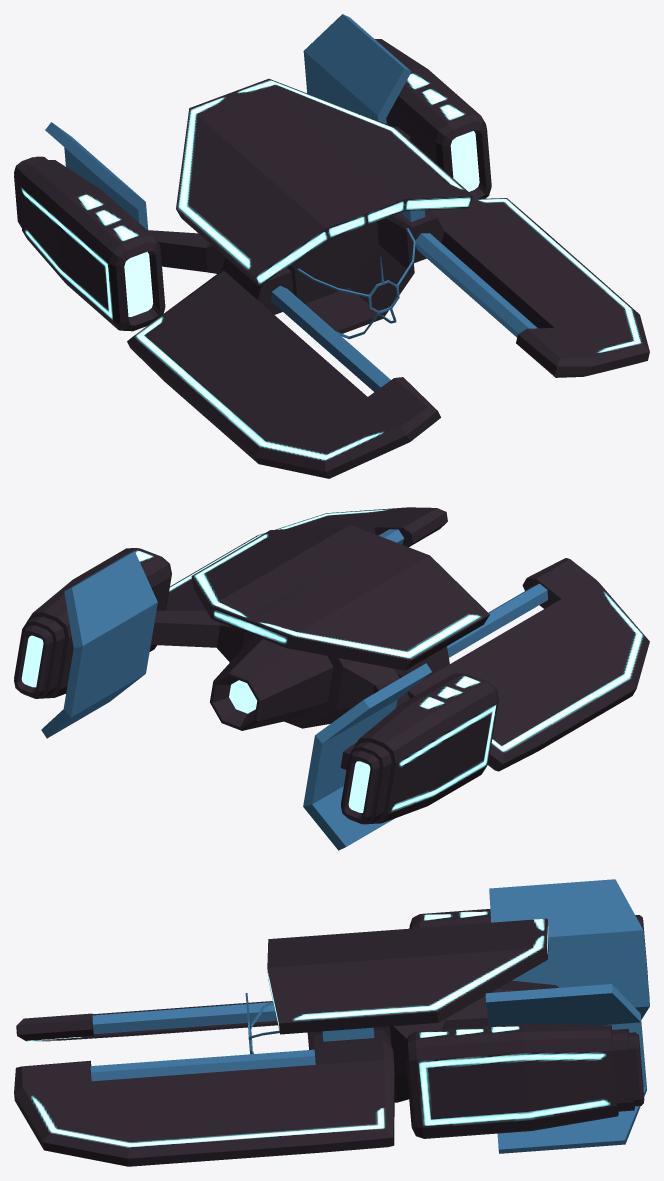
File: Cosmic Cargo Spaceship.glb
3 renders of one model, top to bottom at view 1: azimuth 30°, elevation 25°; view 2: azimuth 150°, elevation 25°; view 3: azimuth 270°, elevation 25°, orthographic. The views are drawn at different scales.
Parts seen in each view (by area): view 1: Spaceship (Scaled for HexaTower); view 2: Spaceship (Scaled for HexaTower); view 3: Spaceship (Scaled for HexaTower).
Part boxes in pixels (box(x1,y1,x2,y2)): Spaceship (Scaled for HexaTower): box(14, 14, 649, 478); Spaceship (Scaled for HexaTower): box(14, 507, 649, 850); Spaceship (Scaled for HexaTower): box(14, 879, 649, 1166).
Size of the model in its own units: 0.5219 by 0.26 by 0.7272.
Materials: 1 (1 with a texture image).
